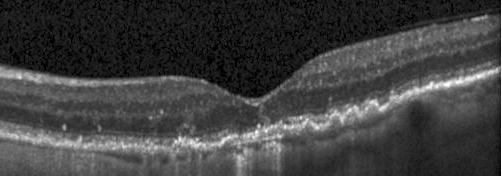retinal_drusen: (299, 121, 315, 137), (326, 114, 342, 130), (345, 109, 359, 124), (174, 143, 194, 153), (281, 129, 297, 140), (366, 104, 379, 116), (386, 97, 398, 110), (222, 140, 233, 149)
